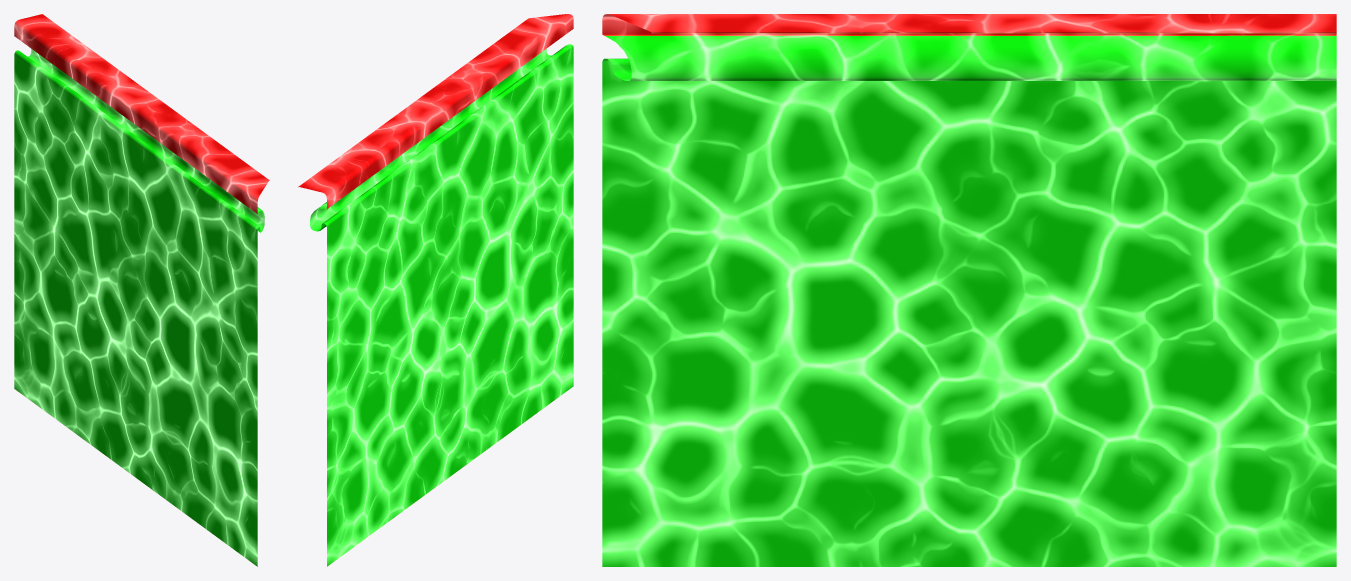
Rendered from SM_PoolSideCornerSingleInside300.fbx.
3 views of the same model, side by side, from view 1: azimuth 30°, elevation 25°; view 2: azimuth 150°, elevation 25°; view 3: azimuth 270°, elevation 25° (orthographic). The views are drawn at different scales.
Parts seen in each view (by area): view 1: SM_PoolSideCornerSingleInside300_LOD0; view 2: SM_PoolSideCornerSingleInside300_LOD0; view 3: SM_PoolSideCornerSingleInside300_LOD0.
Boxes of the visible parts, left/top/right/bottom form: SM_PoolSideCornerSingleInside300_LOD0: left=14, top=14, right=269, bottom=566; SM_PoolSideCornerSingleInside300_LOD0: left=298, top=14, right=573, bottom=566; SM_PoolSideCornerSingleInside300_LOD0: left=602, top=14, right=1336, bottom=566.
Size of the model in its own units: 20.01 by 300 by 250.
Materials: 1 (1 with a texture image).
